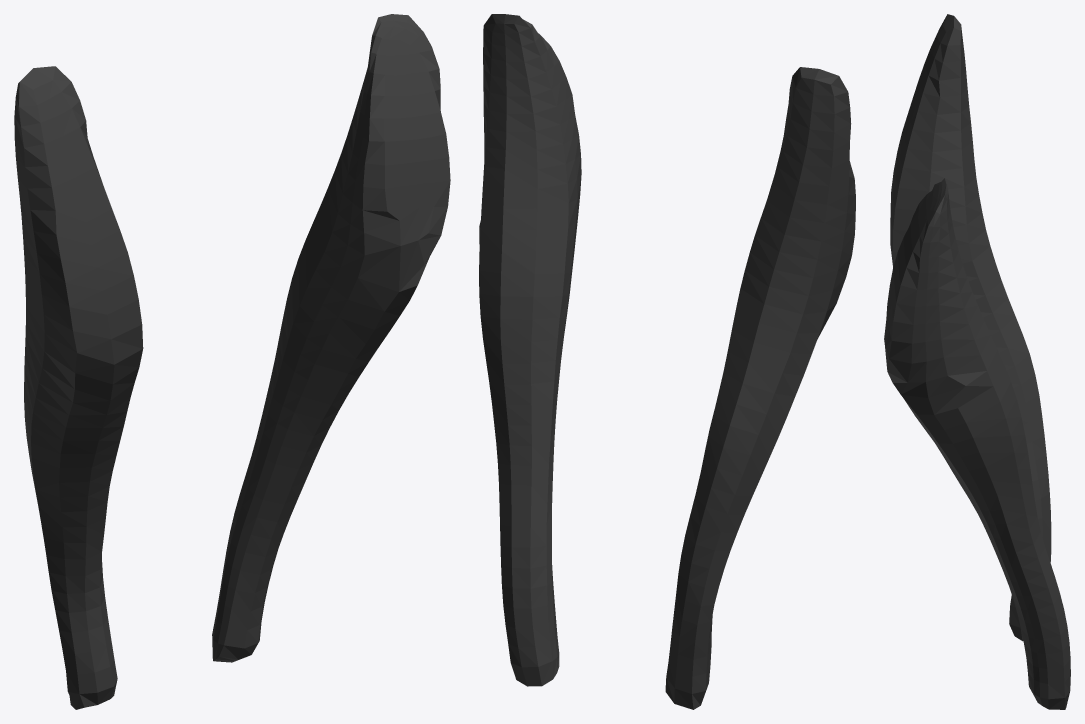
The model's file is Axial_palm_lig_L.glb.
3 renders of one model, left to right at view 1: azimuth 30°, elevation 25°; view 2: azimuth 150°, elevation 25°; view 3: azimuth 270°, elevation 25°, orthographic. The views are drawn at different scales.
Visible parts, largest first — view 1: Axial_palm_lig_L; view 2: Axial_palm_lig_L; view 3: Axial_palm_lig_L.
Part boxes in pixels (box(x1,y1,x2,y2)): Axial_palm_lig_L: box(14, 14, 450, 709); Axial_palm_lig_L: box(479, 14, 855, 709); Axial_palm_lig_L: box(884, 14, 1070, 709).
Size of the model in its own units: 0.8739 by 1.42 by 0.4108.
1 material, 1 textured.
